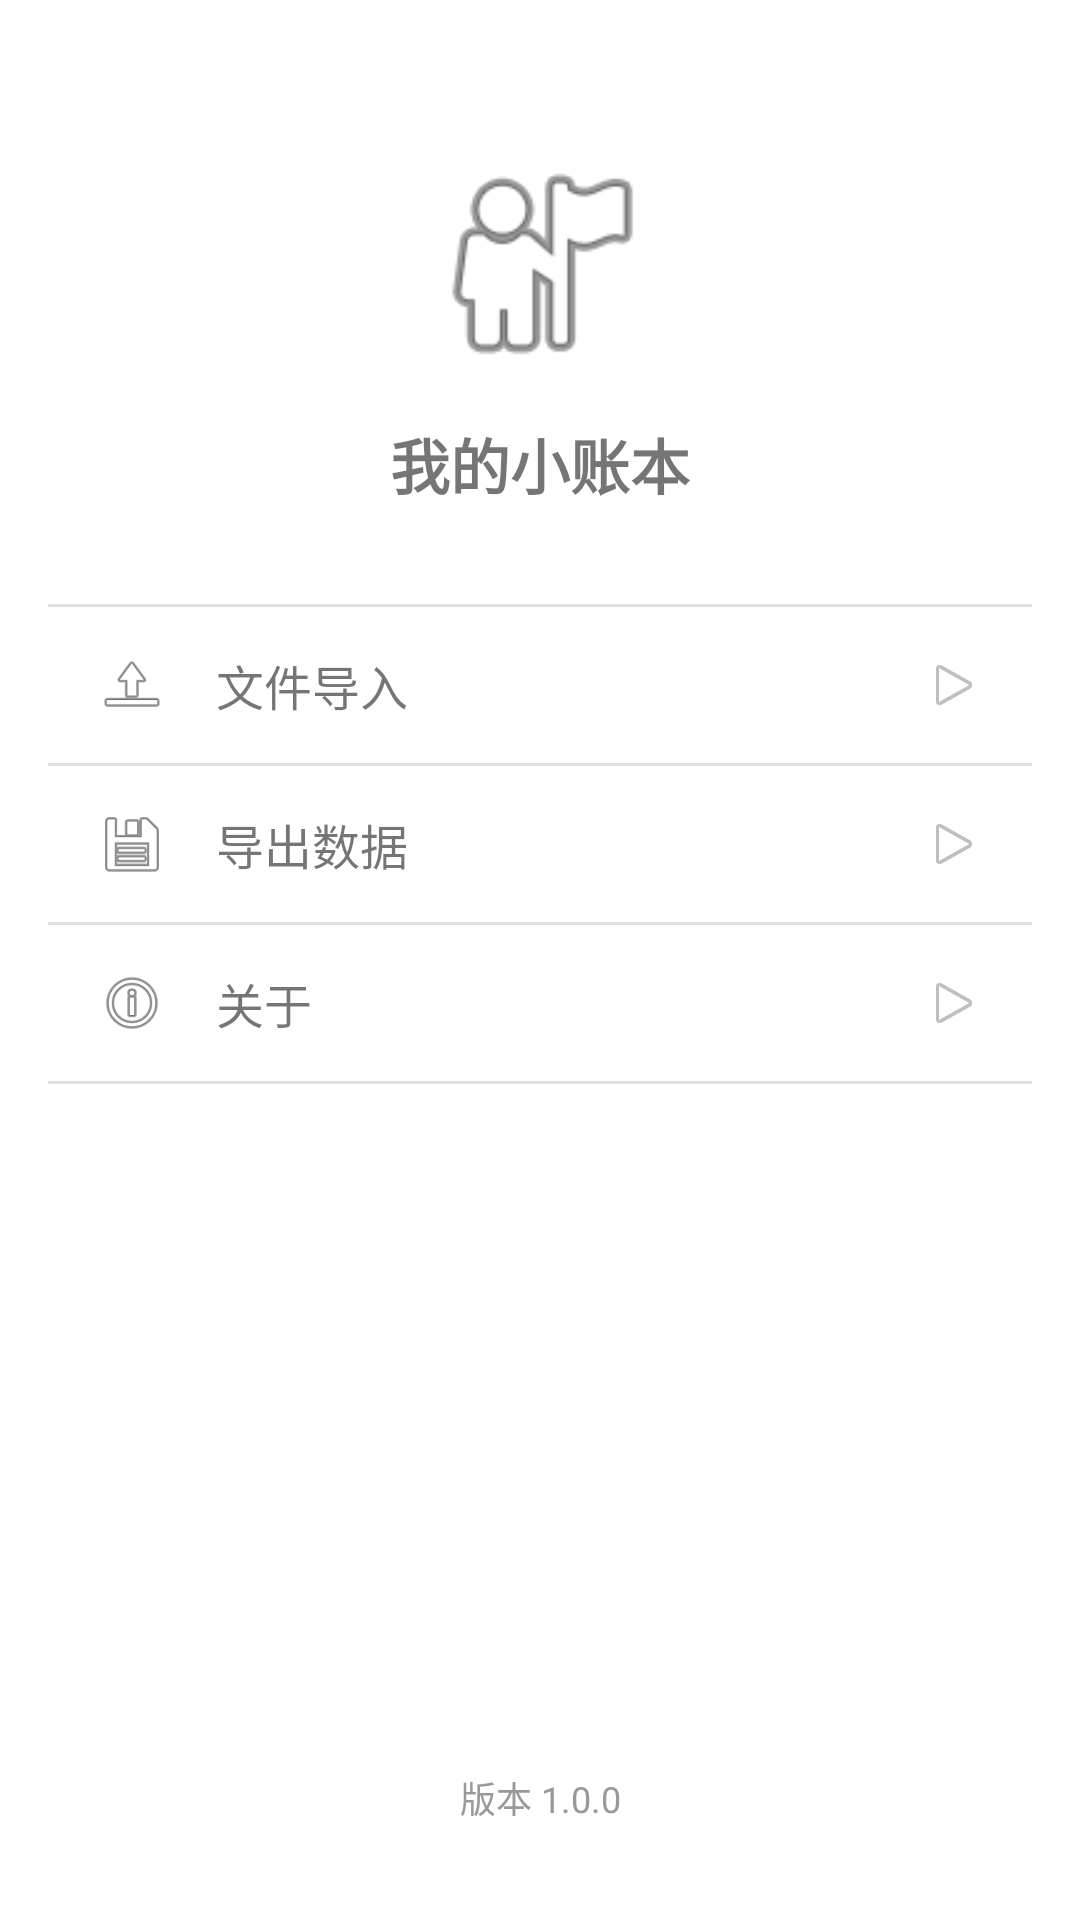

Point at icon controls on the screen. Image size 1080 x 1920, points as (x,y).
头像: (542,264)
箭头: (954,685), (954,844), (954,1003)
